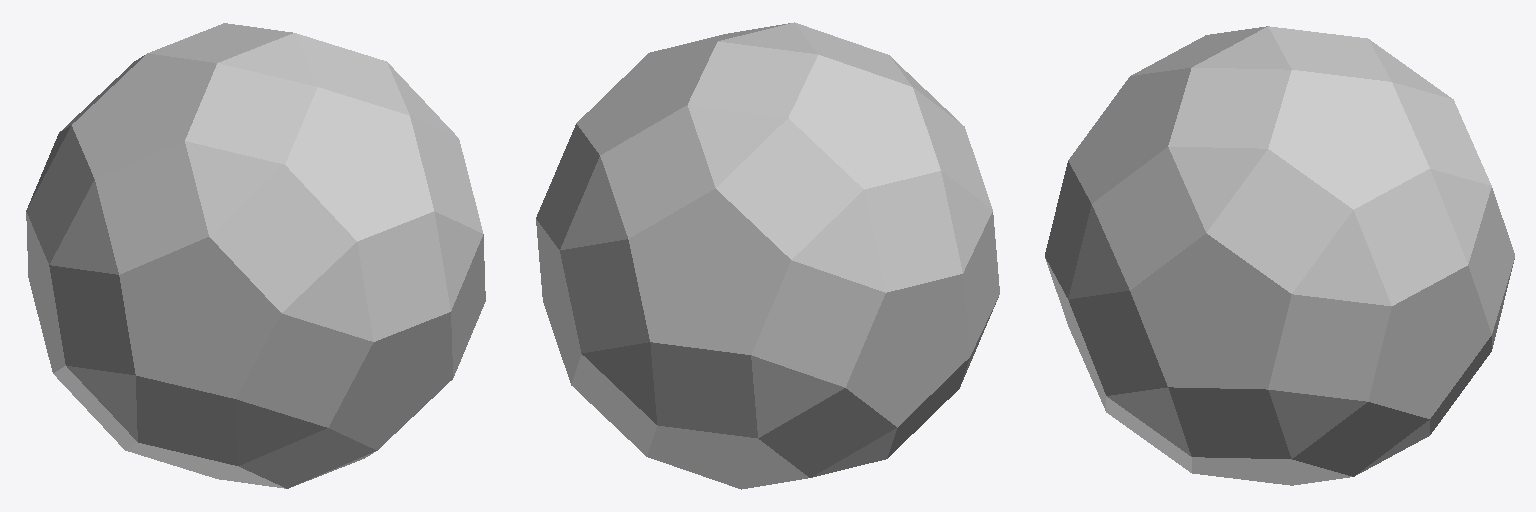
File: rhombicosidodecahedron.obj
The picture shows the model from 3 angles: view 1: azimuth 30°, elevation 25°; view 2: azimuth 150°, elevation 25°; view 3: azimuth 270°, elevation 25°; orthographic projection.
Bounding box in the file's own units: 2.02 × 2 × 2.05.